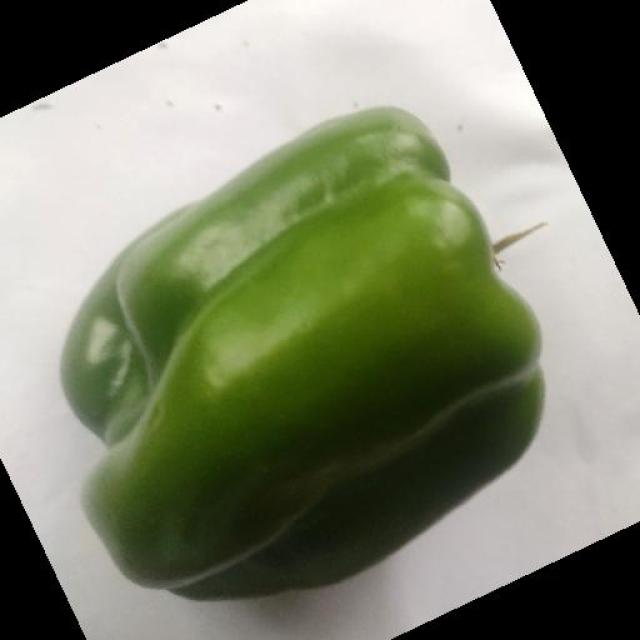Fresh_Capsicum: (58, 132, 522, 556)
